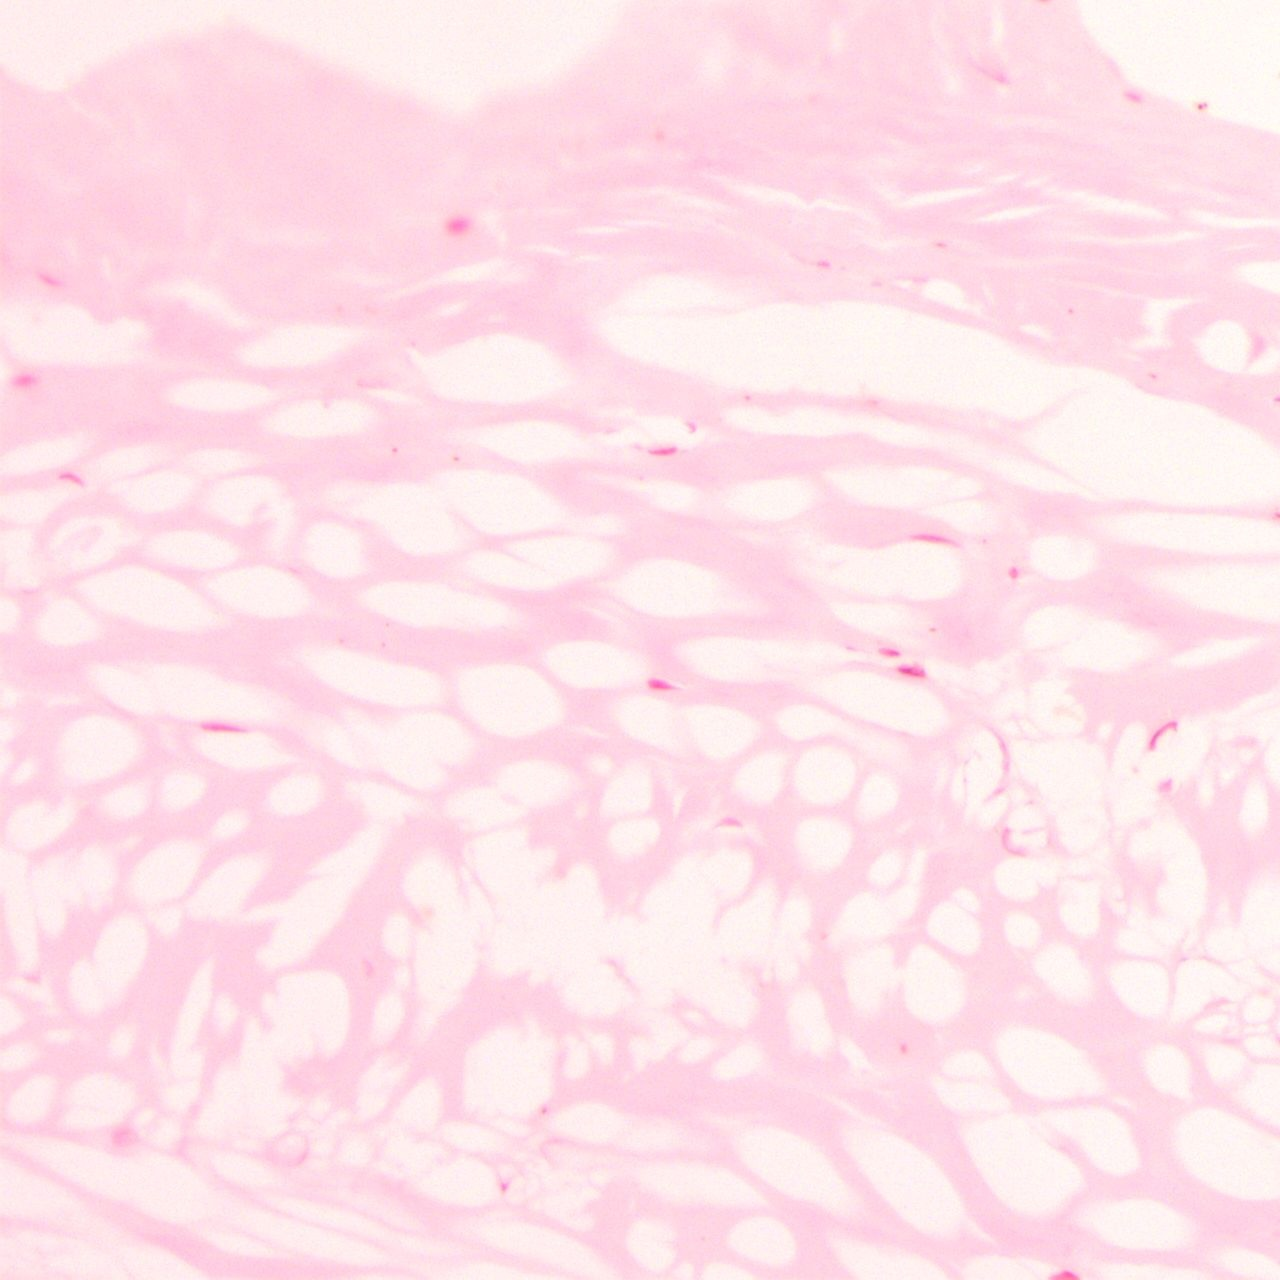dust: (338, 636, 348, 645), (392, 447, 399, 452), (1197, 104, 1203, 110), (452, 456, 459, 461), (744, 395, 750, 400), (380, 642, 386, 647), (384, 622, 390, 627), (1203, 102, 1207, 105)
nucleus-AC: (1144, 717, 1182, 753), (57, 468, 88, 492), (197, 721, 254, 733), (896, 663, 925, 678), (38, 273, 62, 290), (645, 445, 679, 457), (647, 676, 673, 692), (447, 217, 469, 234), (1046, 1269, 1084, 1279), (13, 374, 34, 387), (879, 647, 901, 658)
